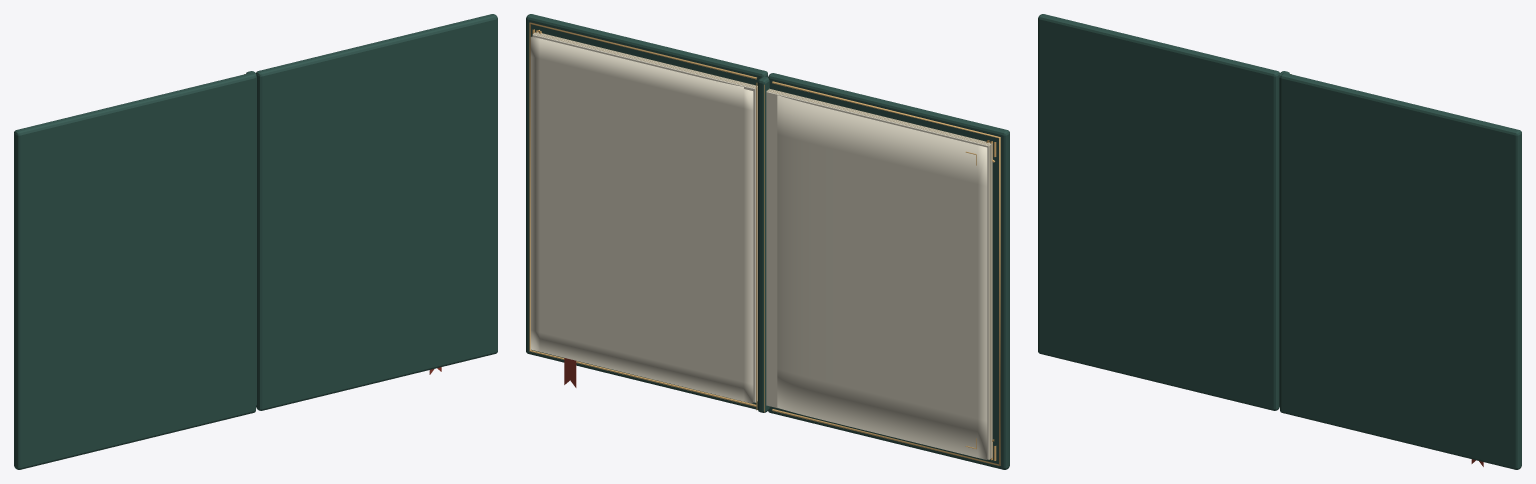
File: explorer-notebook.glb
The picture shows the model from 3 angles, left to right: view 1: azimuth 30°, elevation 25°; view 2: azimuth 150°, elevation 25°; view 3: azimuth 330°, elevation 25°; orthographic projection.
Parts seen in each view (by area): view 1: Book Notebook jade leather; view 2: Book Notebook warm paper, Leaf Notebook warm paper, Book Notebook jade leather, Book Notebook gold binding, Book Notebook page edges; view 3: Book Notebook jade leather.
Boxes of the visible parts, x1,y1,x2,y2 form: Book Notebook jade leather: [14, 14, 497, 469]; Book Notebook warm paper: [531, 32, 992, 459]; Leaf Notebook warm paper: [530, 37, 753, 403]; Book Notebook jade leather: [526, 14, 1009, 469]; Book Notebook gold binding: [529, 22, 1000, 465]; Book Notebook page edges: [533, 32, 992, 459]; Book Notebook jade leather: [1038, 14, 1521, 469].
Size of the model in its own units: 9.35 by 6.56 by 0.405.
